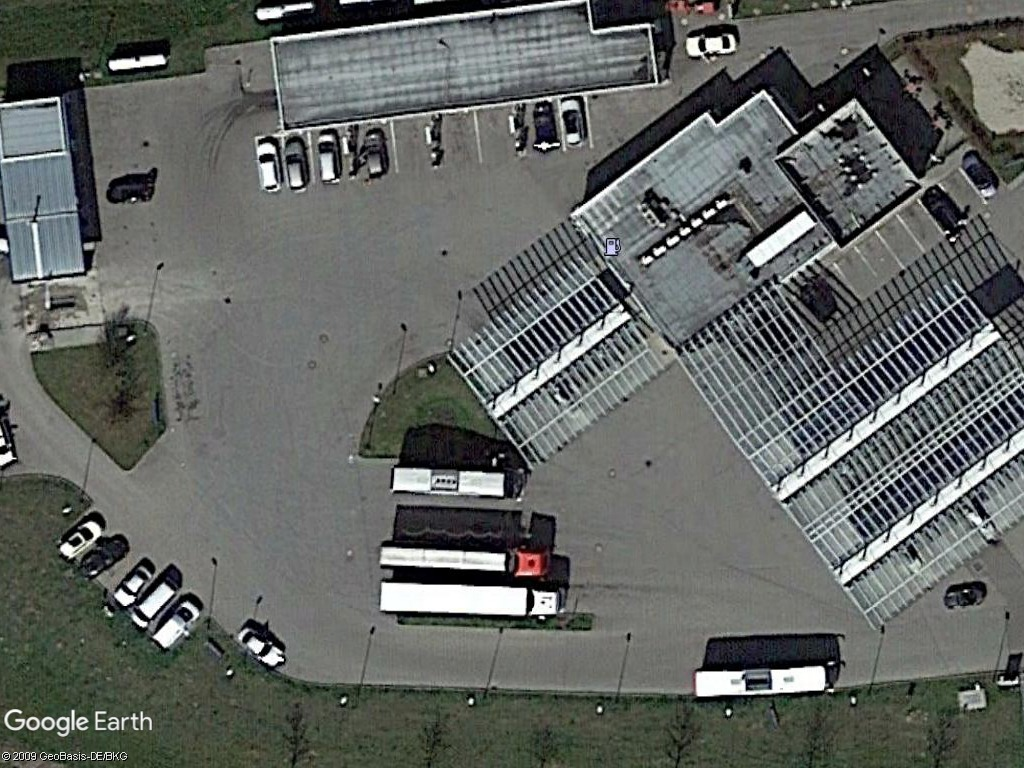bus: (685, 656, 838, 705), (385, 463, 514, 504)
car: (232, 624, 285, 668), (281, 133, 313, 195), (678, 31, 738, 62), (313, 129, 345, 187), (253, 138, 283, 194), (558, 95, 589, 148)
longvehicle: (371, 577, 568, 620), (372, 537, 558, 581)
van: (150, 597, 203, 653), (125, 574, 176, 629)
